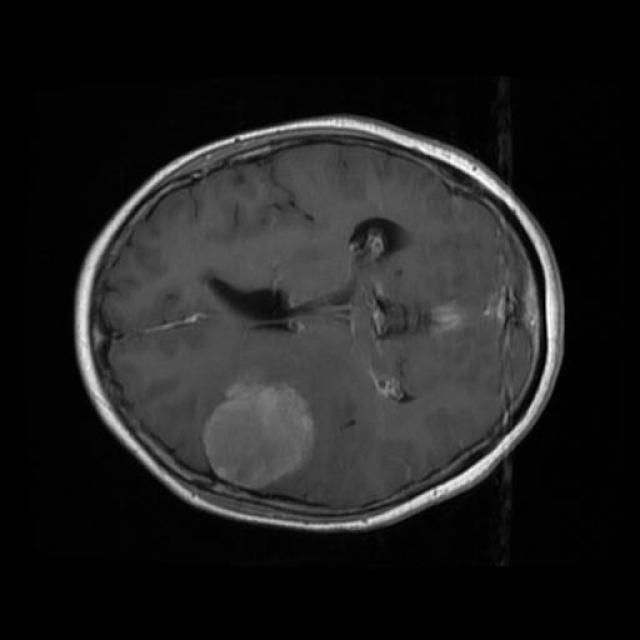Meningioma: (202, 383, 315, 489)
